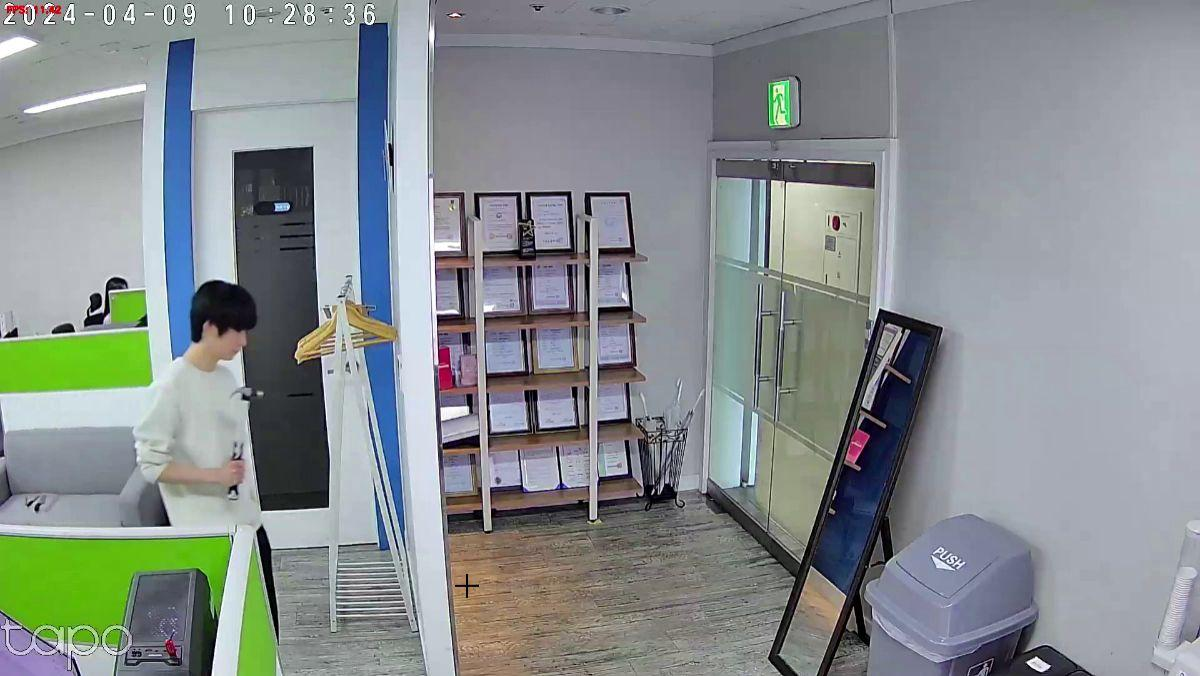hammer: (224, 381, 266, 502)
